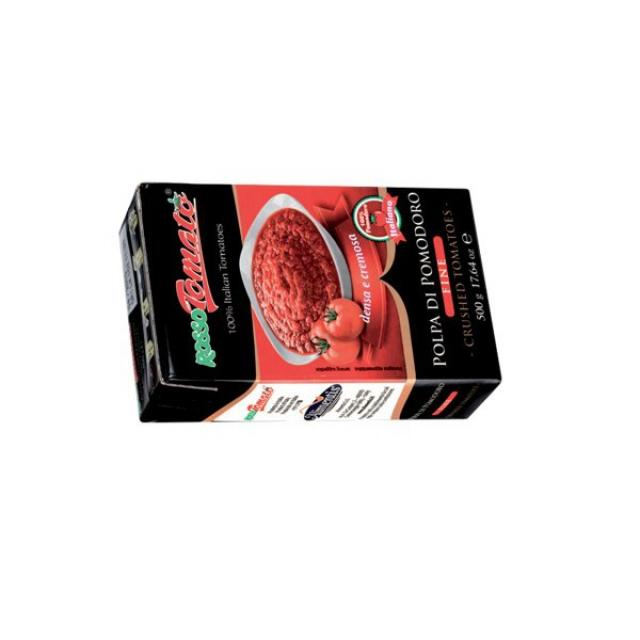non_white_jug: (114, 179, 503, 428)
